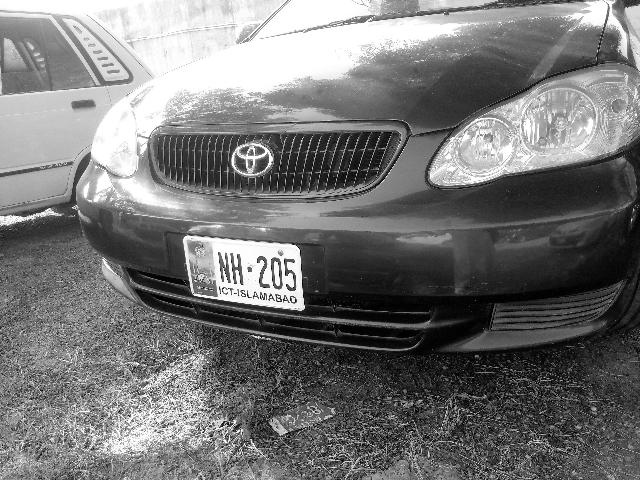Number: (216, 249, 299, 294)
